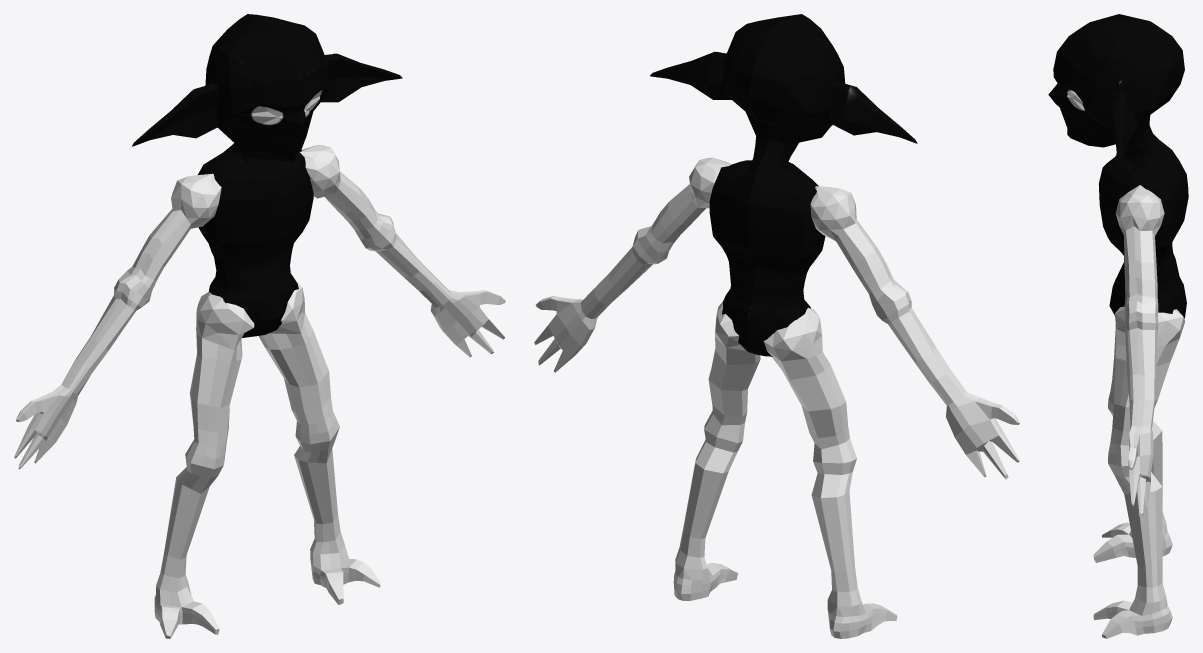
File: gamedev_creature.fbx
3 views of the same model, side by side, from view 1: azimuth 30°, elevation 25°; view 2: azimuth 150°, elevation 25°; view 3: azimuth 270°, elevation 25° (orthographic). The views are drawn at different scales.
Parts seen in each view (by area): view 1: body, leg_R, leg_L, arm_R, arm_L; view 2: body, leg_R, arm_R, leg_L, arm_L; view 3: body, arm_L, leg_L, leg_R.
Part boxes in pixels (x1,y1,x2,y2): body: (132, 14, 402, 337); leg_R: (154, 291, 254, 638); leg_L: (258, 283, 380, 604); arm_R: (14, 173, 221, 469); arm_L: (300, 145, 505, 357); body: (650, 14, 917, 356); leg_R: (763, 308, 897, 638); arm_R: (810, 186, 1019, 479); leg_L: (673, 302, 760, 600); arm_L: (534, 157, 730, 372); body: (1048, 14, 1188, 318); arm_L: (1115, 185, 1164, 517); leg_L: (1093, 306, 1185, 638); leg_R: (1093, 324, 1172, 562).
Size of the model in its own units: 379 by 434 by 96.46.
